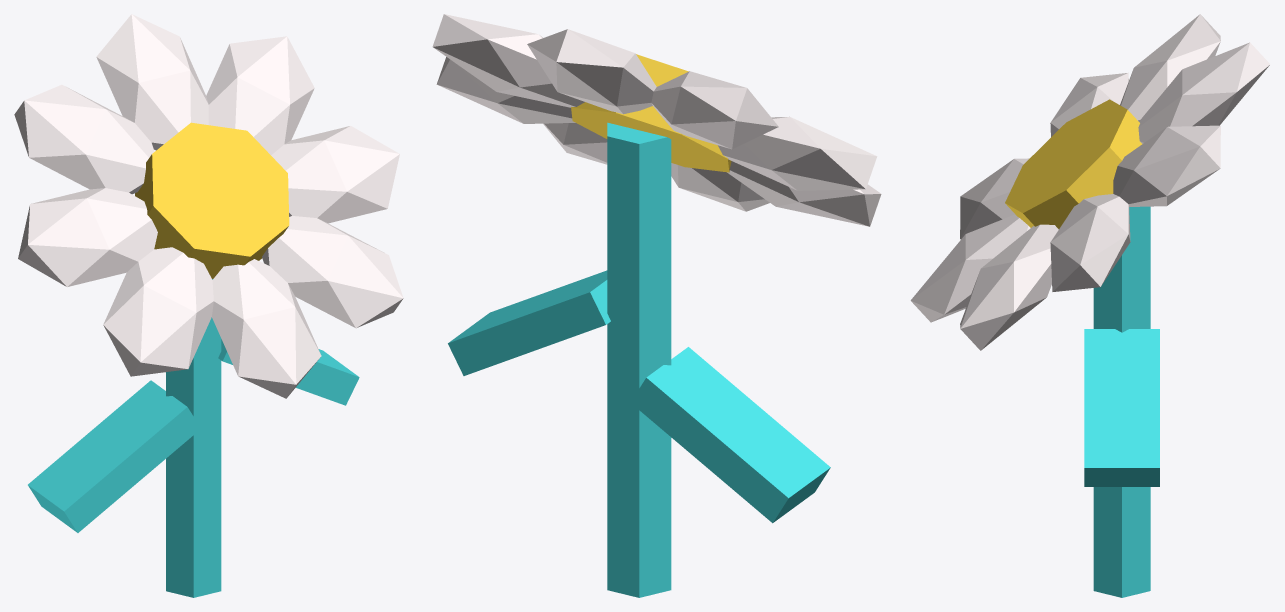
File: flower_white.glb
3 views of the same model, side by side, from view 1: azimuth 30°, elevation 25°; view 2: azimuth 150°, elevation 25°; view 3: azimuth 270°, elevation 25° (orthographic). The views are drawn at different scales.
Visible parts, largest first — view 1: Flower; view 2: Flower; view 3: Flower.
Part boxes in pixels (box(x1,y1,x2,y2)): Flower: box(14, 14, 403, 597); Flower: box(432, 14, 881, 597); Flower: box(910, 14, 1270, 597).
Bounding box in the file's own units: 0.9403 × 1.27 × 0.7635.
